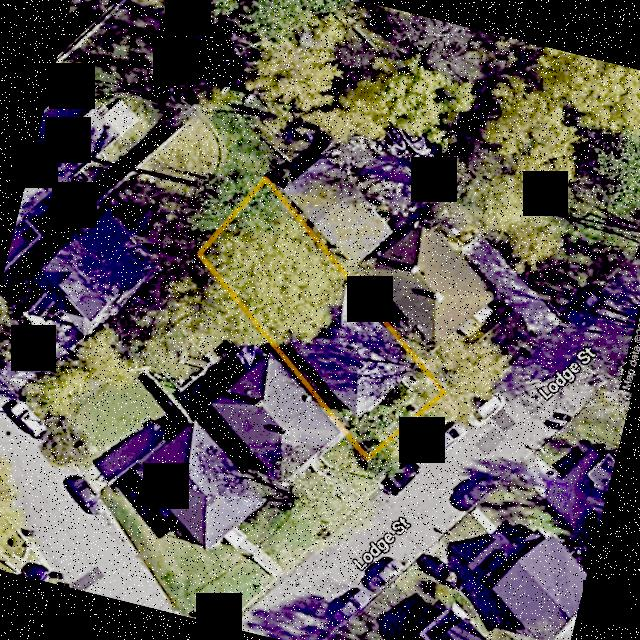Extra Lawn: (364, 393, 459, 479)
House: (287, 284, 401, 418)
